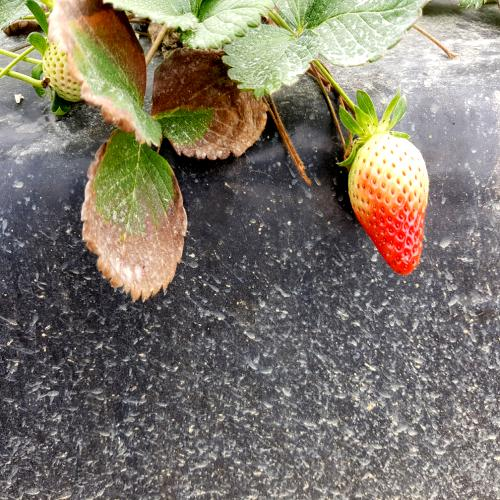partially-ripe: (343, 129, 434, 283)
